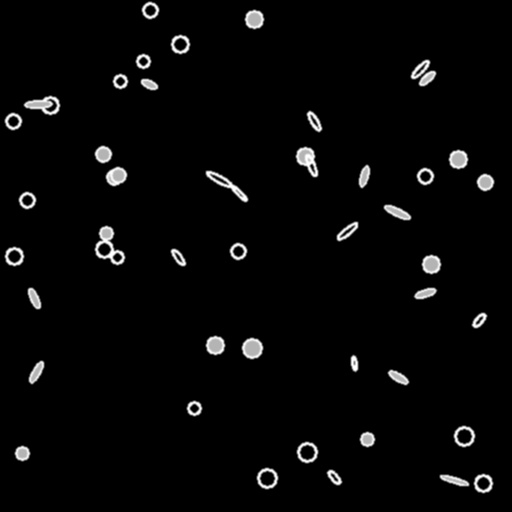pseudomonas: (205, 170, 233, 188), (409, 58, 431, 80), (335, 221, 359, 241), (384, 203, 410, 221), (387, 369, 409, 385), (306, 110, 322, 132), (28, 361, 44, 383), (440, 474, 468, 486), (304, 153, 318, 177), (418, 69, 436, 87), (230, 184, 248, 202), (170, 248, 186, 266), (27, 288, 41, 308), (358, 165, 370, 187), (471, 312, 487, 328), (326, 469, 342, 485), (415, 287, 435, 299), (140, 78, 158, 90), (24, 101, 52, 107), (350, 355, 358, 371)
synechocystis: (243, 339, 261, 357), (298, 443, 316, 461), (258, 469, 276, 487), (455, 427, 473, 445), (475, 475, 491, 491), (246, 11, 262, 27), (6, 248, 22, 264), (172, 36, 188, 52), (297, 148, 313, 164), (96, 241, 112, 257), (423, 256, 439, 272), (450, 151, 466, 167), (42, 97, 58, 113), (207, 337, 223, 353), (418, 169, 432, 183), (231, 244, 245, 258), (107, 170, 121, 184), (6, 114, 20, 128), (96, 147, 110, 161), (20, 193, 34, 207), (111, 168, 125, 182), (143, 3, 157, 17), (478, 175, 492, 189), (188, 402, 200, 414), (16, 447, 28, 459), (100, 227, 112, 239), (137, 55, 149, 67), (111, 251, 123, 263), (361, 433, 373, 445), (114, 75, 126, 87)
